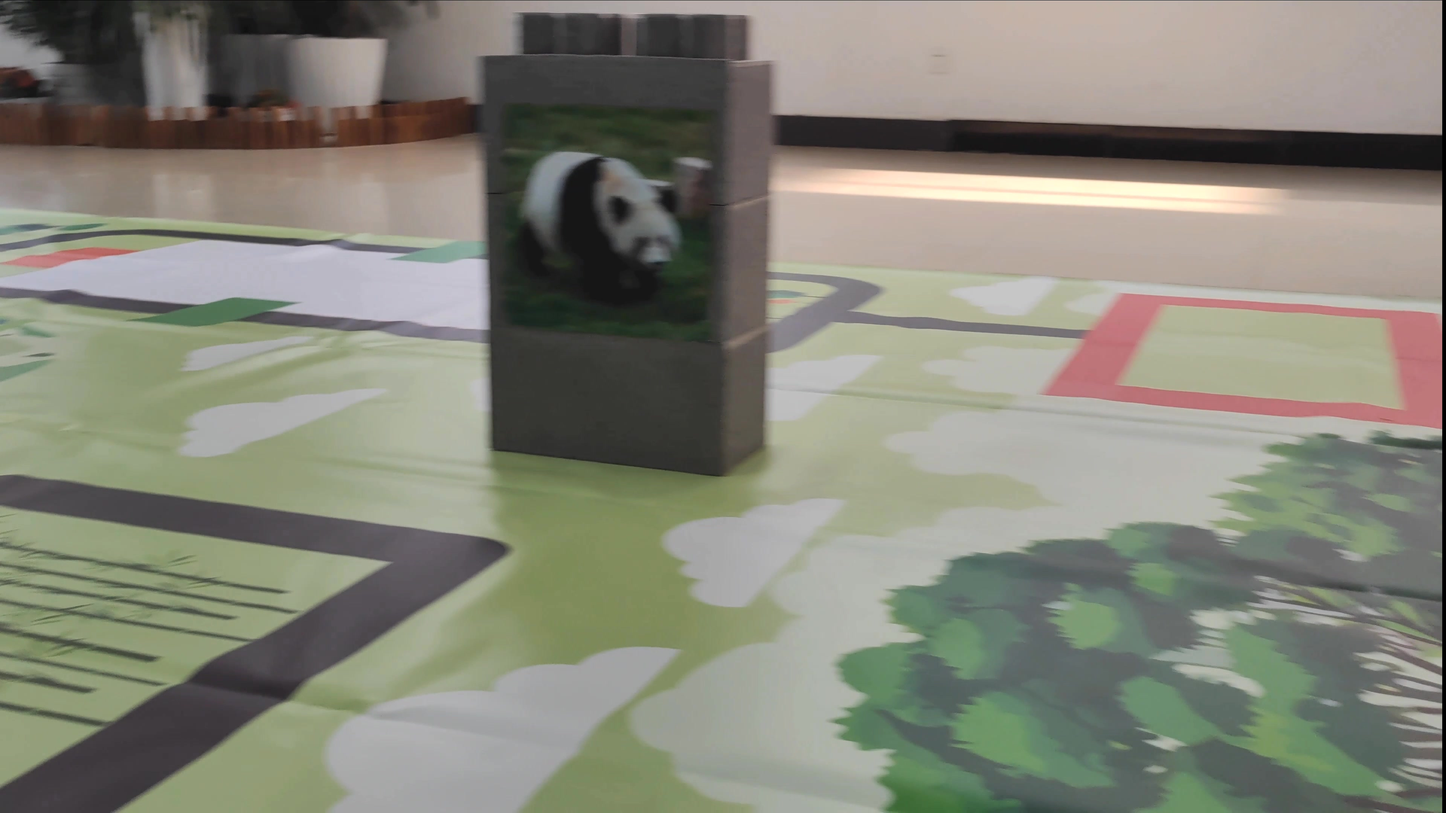panda: (493, 142, 706, 304)
